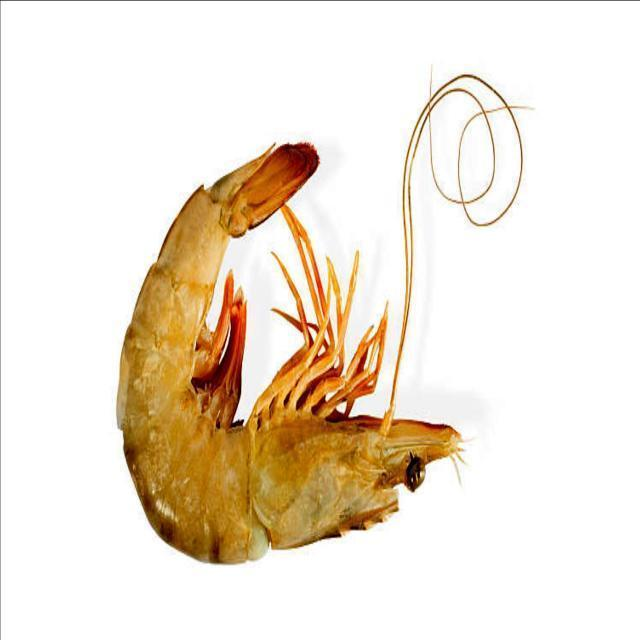shrimp: (116, 145, 460, 562)
